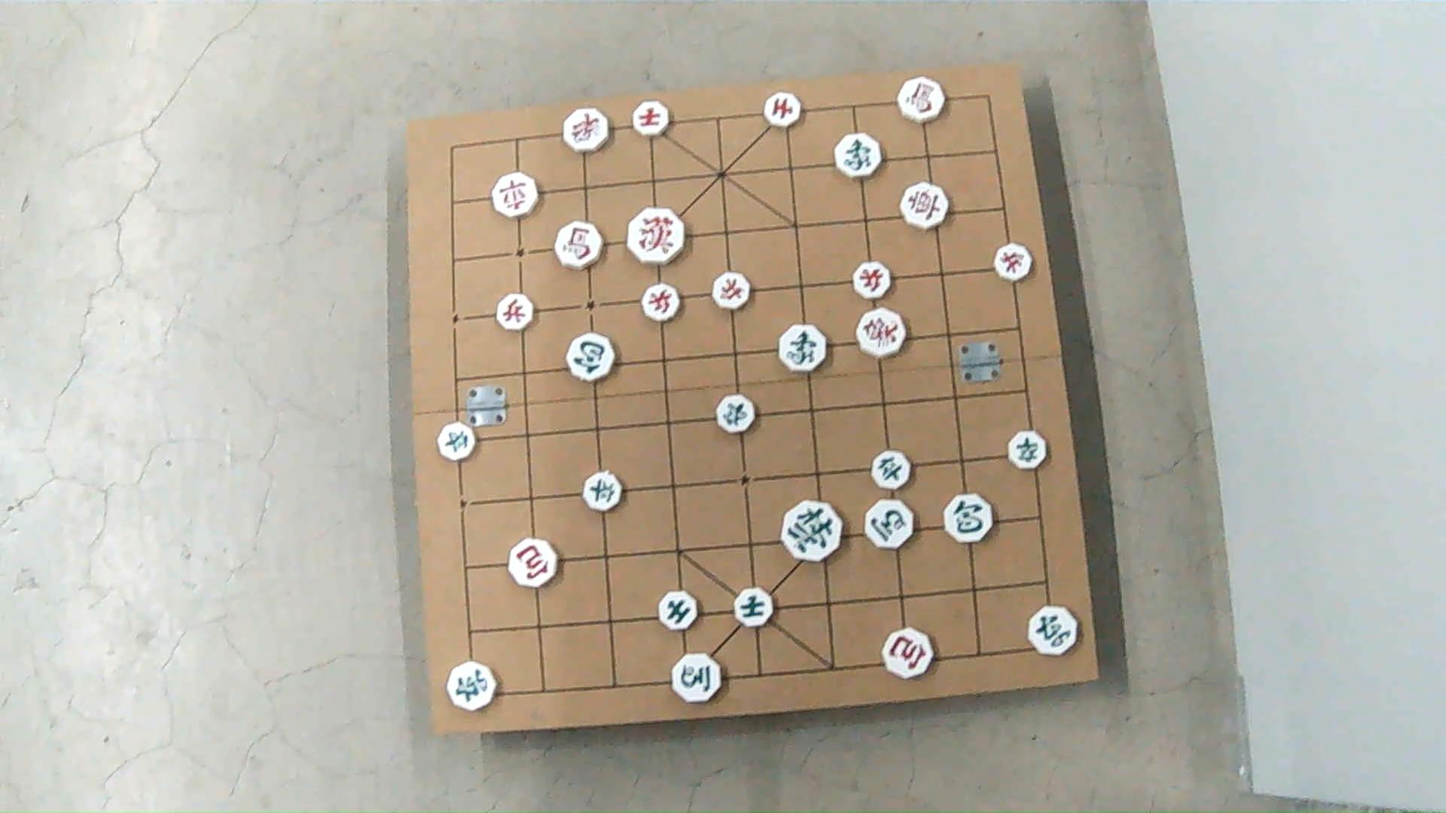cha_green: (1027, 606, 1078, 655), (448, 661, 497, 711)
cha_red: (899, 181, 949, 229), (492, 172, 538, 217)
jol_green: (717, 394, 757, 433), (871, 450, 911, 489), (582, 473, 621, 513), (1008, 432, 1048, 471), (441, 423, 479, 461)
jol_red: (642, 282, 680, 320), (713, 271, 750, 309), (852, 260, 890, 297), (993, 245, 1031, 282), (496, 296, 532, 332)
ma_green: (865, 501, 914, 549), (673, 655, 721, 704)
ma_red: (555, 222, 602, 269), (895, 79, 943, 125)
po_green: (944, 494, 992, 543), (566, 334, 614, 382)
po_red: (881, 628, 932, 678), (511, 540, 559, 589)
sa_green: (733, 588, 773, 626), (662, 591, 700, 630)
sa_red: (631, 102, 669, 139), (763, 91, 801, 127)
sang_green: (779, 327, 827, 374), (836, 133, 883, 178)
sang_red: (856, 308, 906, 358), (561, 110, 607, 154)
wang_green: (780, 502, 840, 562)
wang_red: (627, 209, 685, 266)
